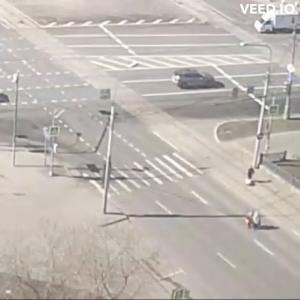car: (174, 69, 214, 90)
